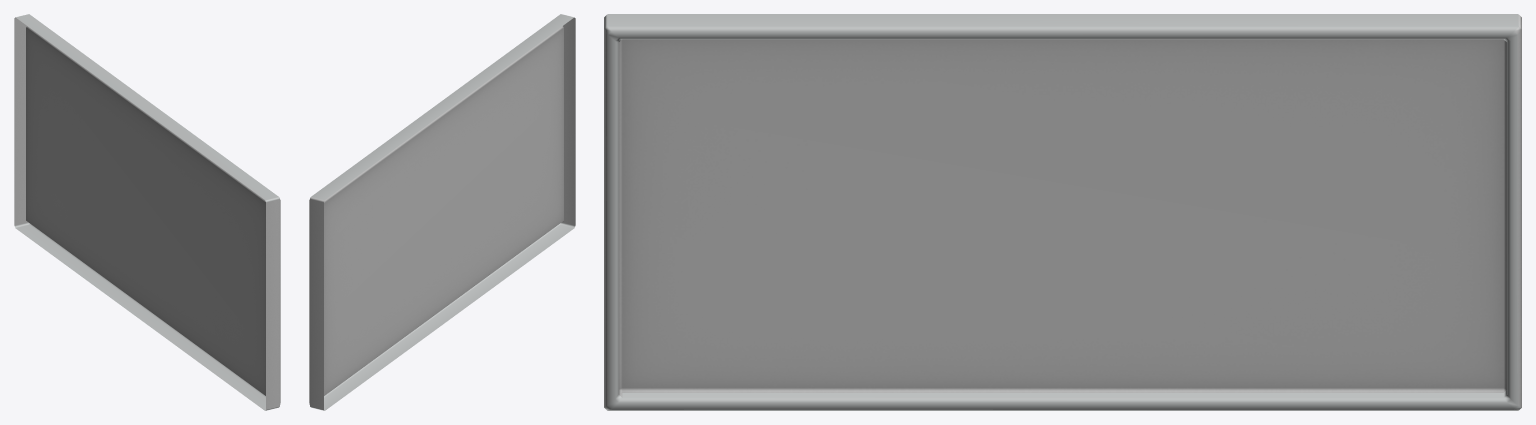
Rendered from SM_Panel_2.fbx.
3 renders of one model, left to right at view 1: azimuth 30°, elevation 25°; view 2: azimuth 150°, elevation 25°; view 3: azimuth 270°, elevation 25°, orthographic. The views are drawn at different scales.
Visible parts, largest first — view 1: SM_Panel_2_LOD0; view 2: SM_Panel_2_LOD0; view 3: SM_Panel_2_LOD0.
Boxes of the visible parts, box(x1,y1,x2,y2) form: SM_Panel_2_LOD0: box(14, 14, 280, 410); SM_Panel_2_LOD0: box(309, 14, 575, 410); SM_Panel_2_LOD0: box(604, 14, 1521, 410).
Bounding box in the file's own units: 4.2 × 118 × 54.75.
1 material, 1 textured.
